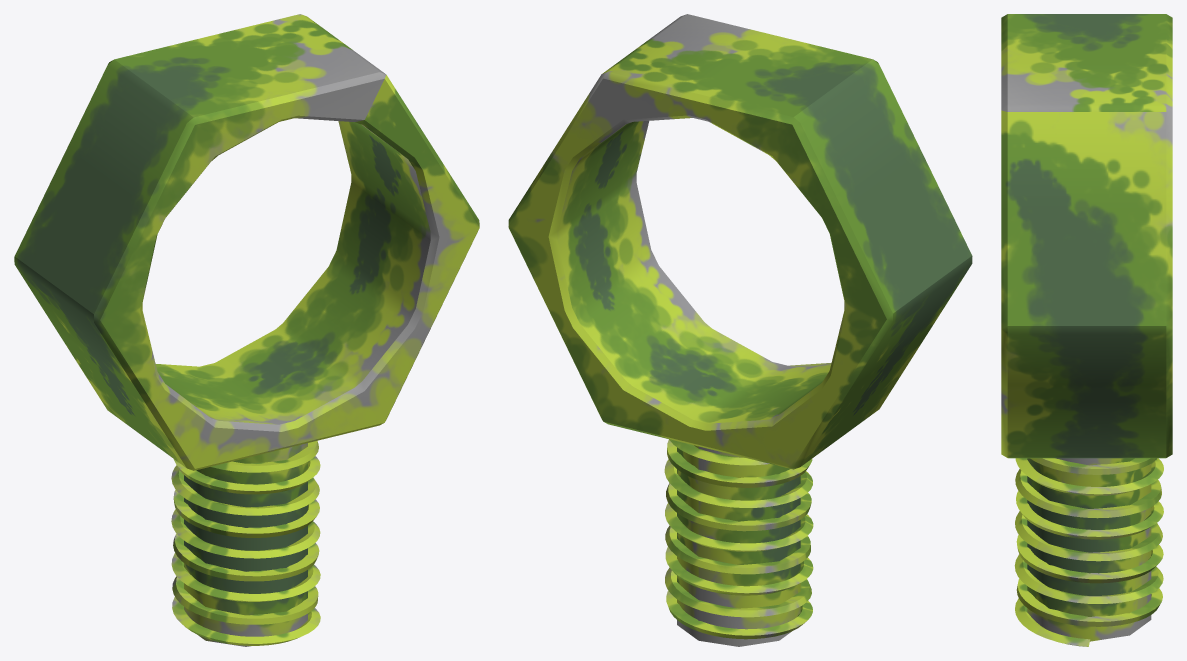
The model's file is Level 3 Grapple Point.fbx.
3 renders of one model, left to right at view 1: azimuth 30°, elevation 25°; view 2: azimuth 150°, elevation 25°; view 3: azimuth 270°, elevation 25°, orthographic.
Parts seen in each view (by area): view 1: BoltNut001, ScrewSpiral001, ScrewBody001; view 2: BoltNut001, ScrewSpiral001, ScrewBody001; view 3: BoltNut001, ScrewSpiral001, ScrewBody001.
Boxes of the visible parts, <box> form: BoltNut001: <box>14,14,479,470</box>; ScrewSpiral001: <box>171,440,320,645</box>; ScrewBody001: <box>184,443,307,646</box>; BoltNut001: <box>508,14,972,469</box>; ScrewSpiral001: <box>664,439,813,639</box>; ScrewBody001: <box>677,445,800,646</box>; BoltNut001: <box>1001,14,1172,458</box>; ScrewSpiral001: <box>1014,458,1163,646</box>; ScrewBody001: <box>1027,458,1151,641</box>.
Size of the model in its own units: 0.716 by 0.993 by 0.276.
1 material, 1 textured.
